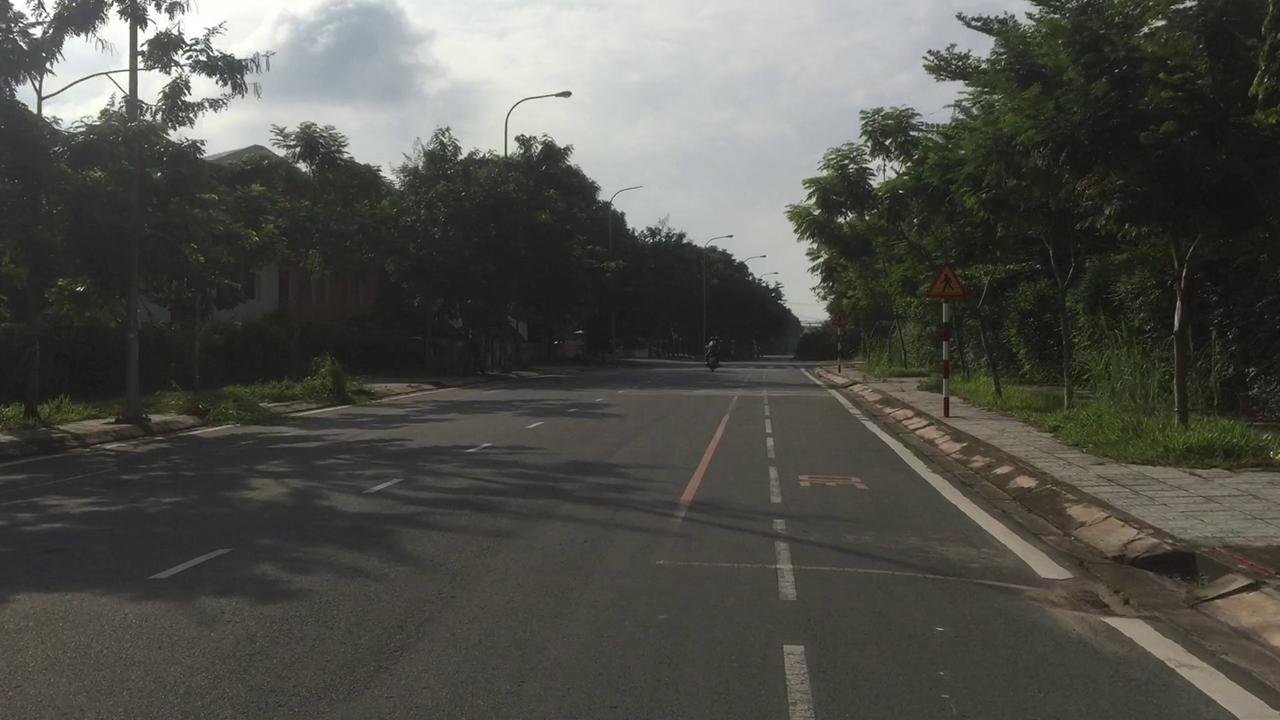P.124b: (926, 261, 968, 299)
